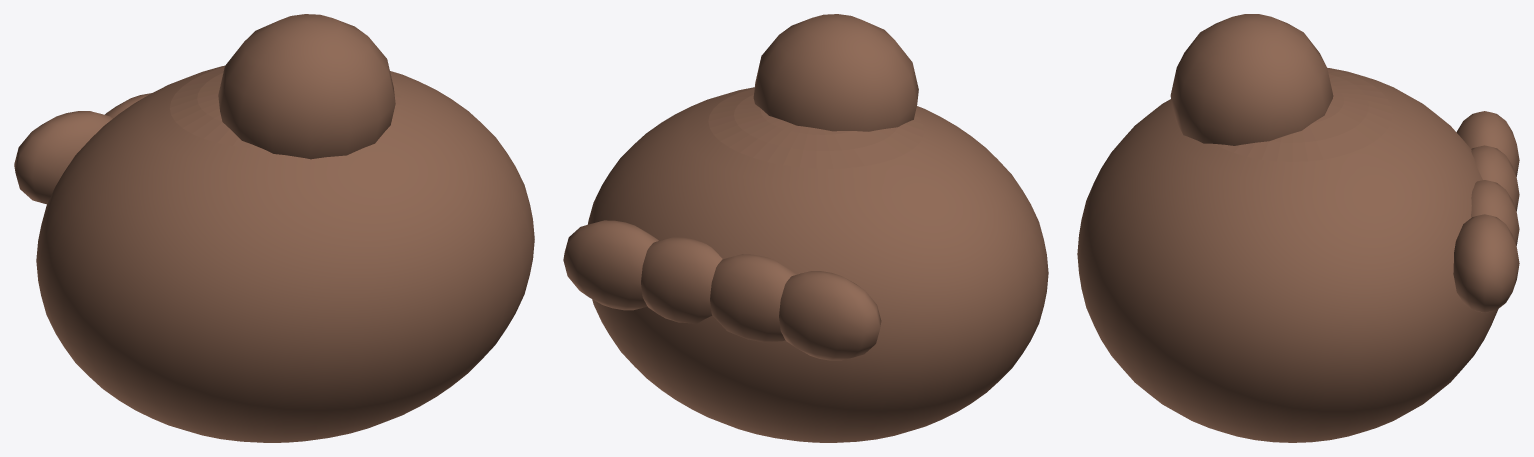
The model's file is Hair_Topbun.fbx.
3 renders of one model, left to right at view 1: azimuth 30°, elevation 25°; view 2: azimuth 150°, elevation 25°; view 3: azimuth 270°, elevation 25°, orthographic. The views are drawn at different scales.
Parts seen in each view (by area): view 1: Hair, Hair_Topbun, Hair_Bang.003; view 2: Hair, Hair_Topbun, Hair_Bang.003, Hair_Bang, Hair_Bang.002, Hair_Bang.001; view 3: Hair, Hair_Topbun, Hair_Bang, Hair_Bang.003, Hair_Bang.001, Hair_Bang.002.
Boxes of the visible parts, bbox=[...] form: Hair: bbox=[36, 65, 534, 442]; Hair_Topbun: bbox=[218, 14, 395, 159]; Hair_Bang.003: bbox=[14, 111, 112, 204]; Hair: bbox=[587, 87, 1048, 442]; Hair_Topbun: bbox=[753, 14, 918, 131]; Hair_Bang.003: bbox=[779, 271, 881, 360]; Hair_Bang: bbox=[563, 220, 658, 310]; Hair_Bang.002: bbox=[710, 254, 796, 342]; Hair_Bang.001: bbox=[641, 237, 722, 323]; Hair: bbox=[1077, 68, 1498, 442]; Hair_Topbun: bbox=[1170, 14, 1333, 145]; Hair_Bang: bbox=[1453, 214, 1519, 312]; Hair_Bang.003: bbox=[1456, 111, 1519, 176]; Hair_Bang.001: bbox=[1471, 180, 1519, 245]; Hair_Bang.002: bbox=[1471, 145, 1519, 211].
Bounding box in the file's own units: 84 × 74 × 76.
